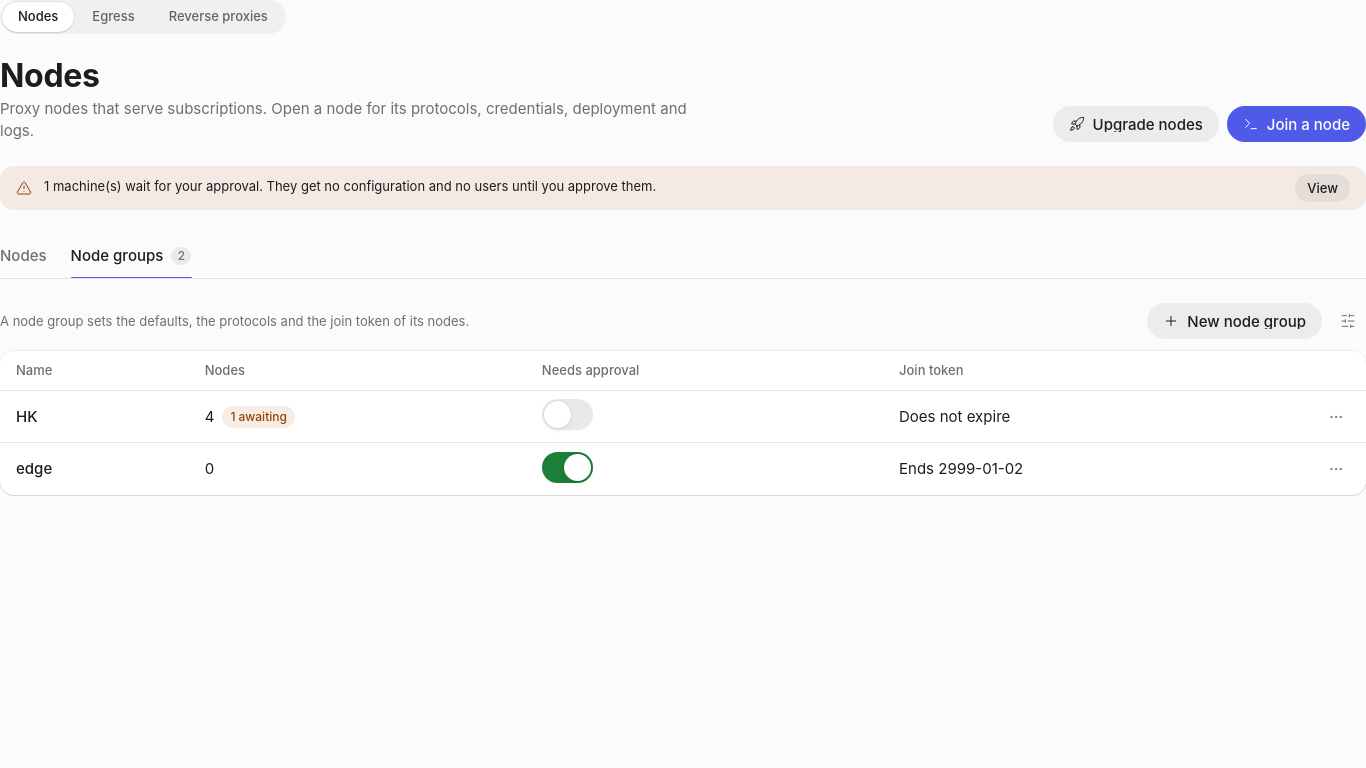
Test: node groups › shows a name that is taken at the name
Expected: the element with test id "node-groups-panel" is shown, x1=0 y1=303 x2=1365 y2=495
Click the button with test id "add-node-group" at (1235, 321), box x1=1147 y1=303 x2=1322 y2=339
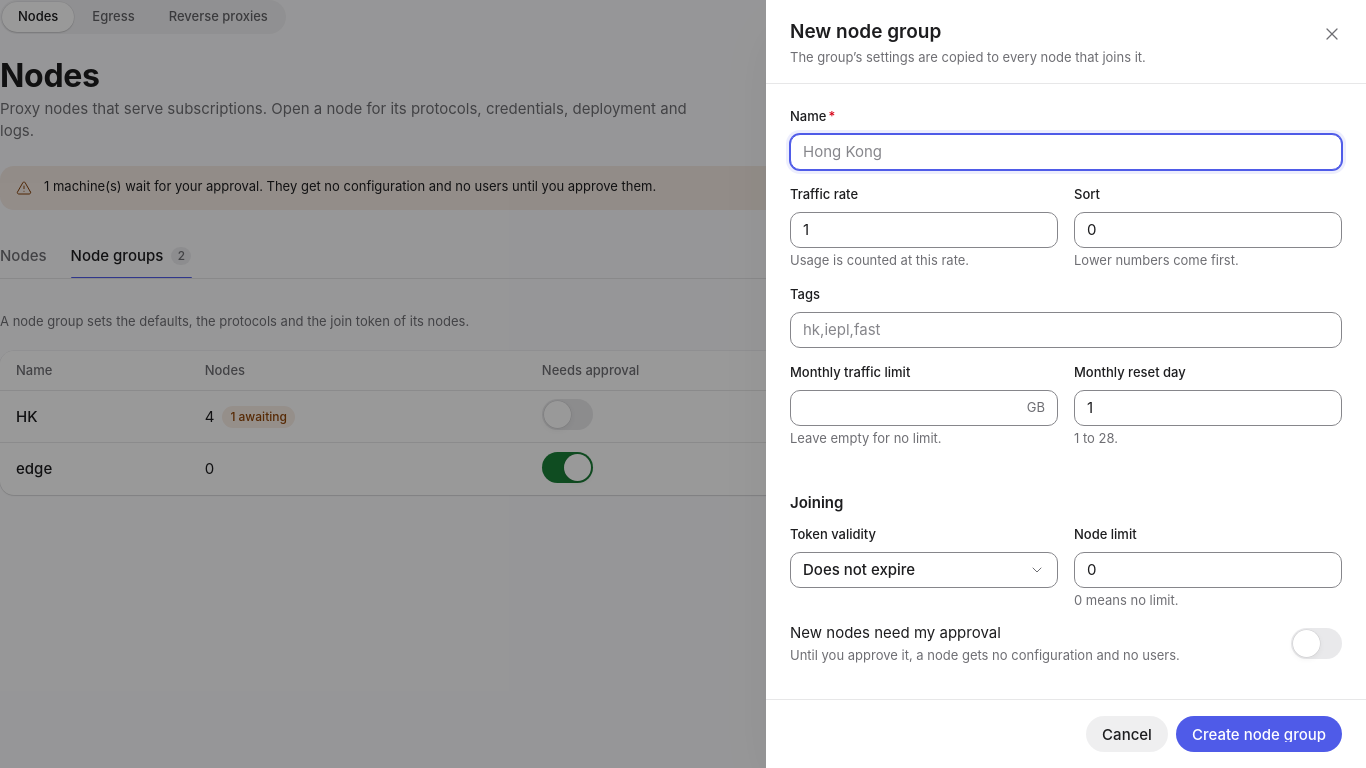
Type "HK" into the field with test id "group-name" showing "Name *" at (1066, 152), box x1=791 y1=135 x2=1341 y2=169
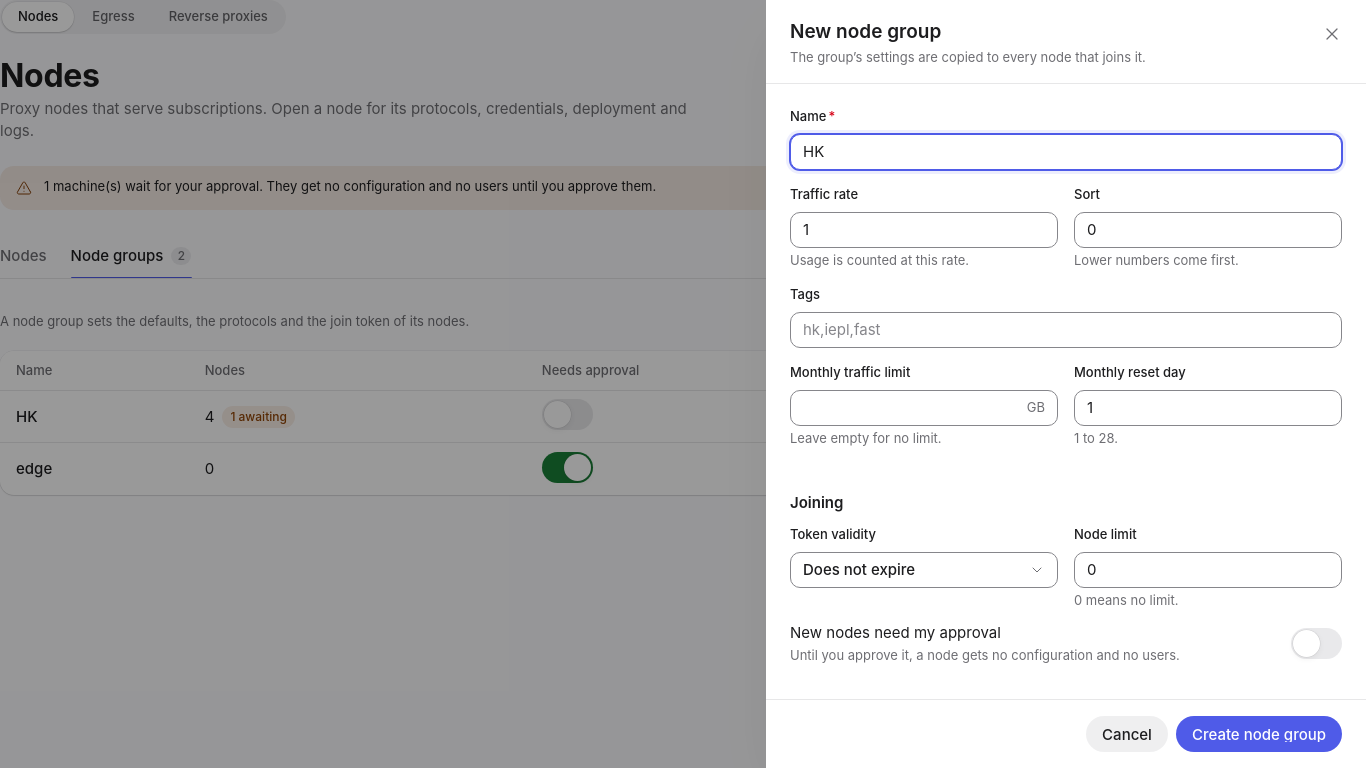
Click the button with test id "save-group" at (1259, 734), box x1=1176 y1=716 x2=1342 y2=752
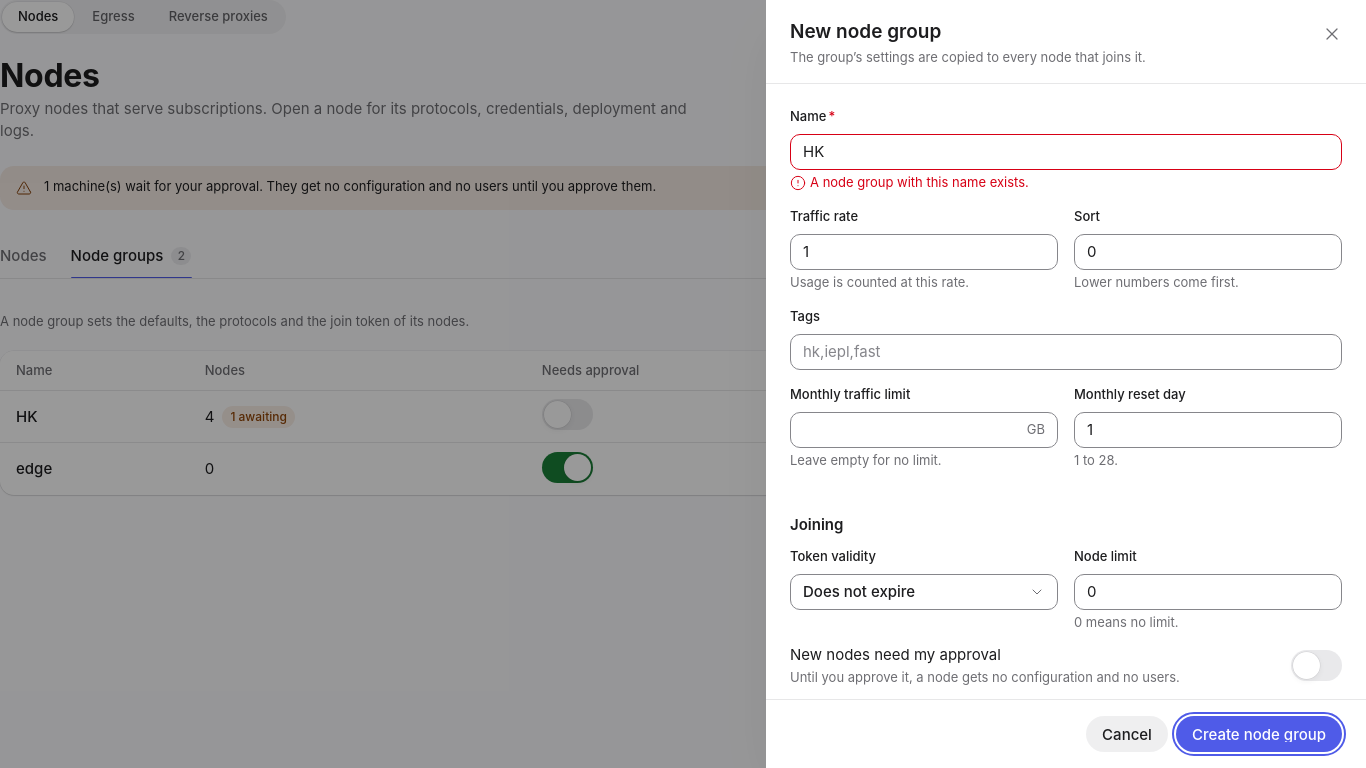
Expected: the text "A node group with this name exists." is shown, x1=810 y1=174 x2=1029 y2=192
